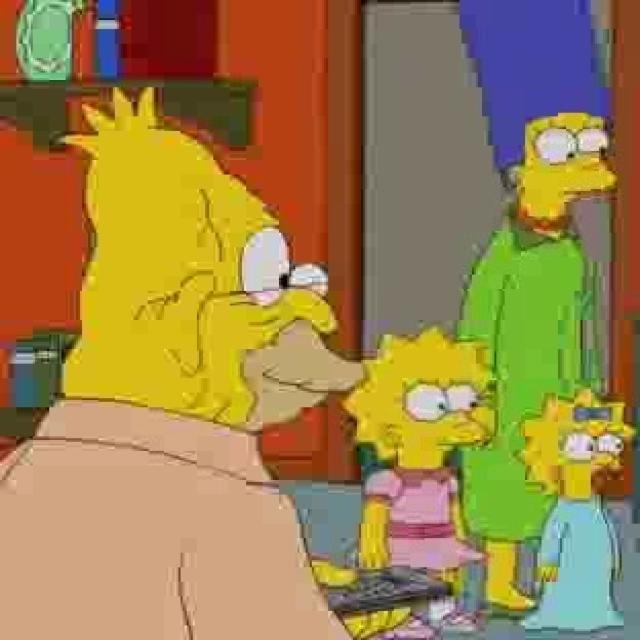Abraham Grampa Simpson: (61, 84, 374, 444)
Lisa Simpson: (344, 332, 500, 468)
Maggie Simpson: (508, 386, 640, 508)
Marge Simpson: (453, 0, 618, 233)
